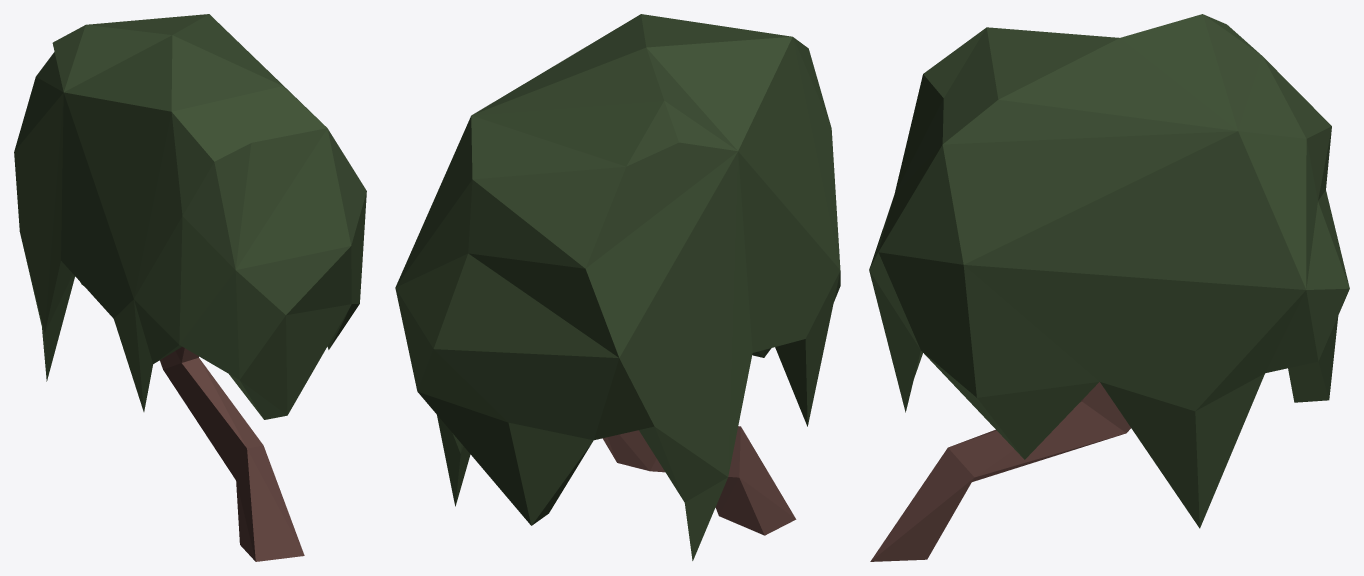
Rendered from willow-tree-3.gltf.
The picture shows the model from 3 angles, left to right: view 1: azimuth 30°, elevation 25°; view 2: azimuth 150°, elevation 25°; view 3: azimuth 270°, elevation 25°; orthographic projection. The views are drawn at different scales.
Visible parts, largest first — view 1: Willow_3_Cube.012; view 2: Willow_3_Cube.012; view 3: Willow_3_Cube.012.
Part boxes in pixels (x1,y1,x2,y2): Willow_3_Cube.012: (14,14,366,561); Willow_3_Cube.012: (395,14,840,560); Willow_3_Cube.012: (869,14,1349,561).
Size of the model in its own units: 0.0126 by 0.0234 by 0.0199.
